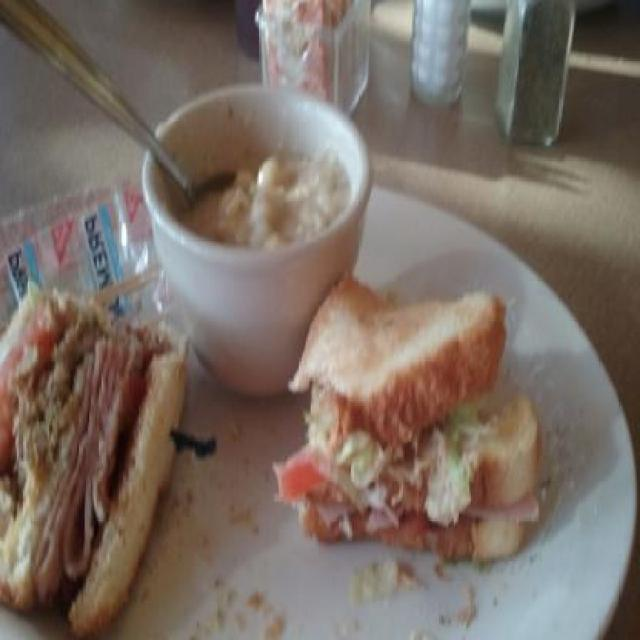clam chowder: (146, 87, 368, 290)
club sandwich: (0, 280, 548, 634)
